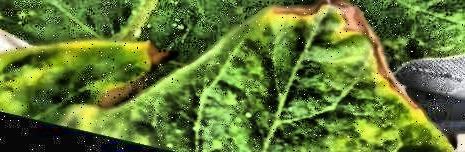Non-critical Stress: (0, 0, 465, 151)
